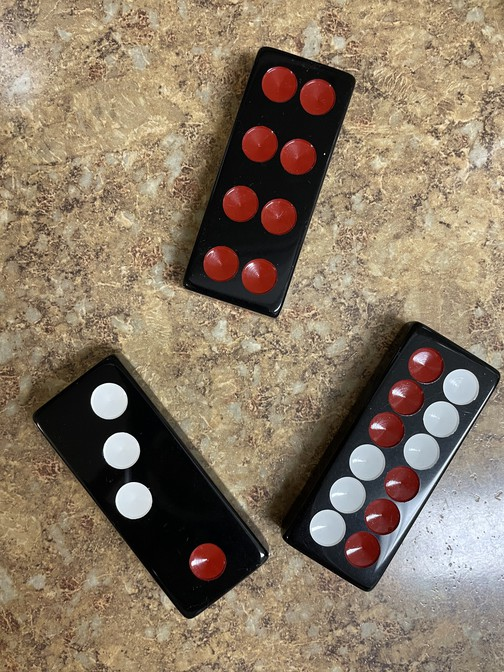goose: (34, 349, 272, 621)
heaven: (282, 321, 501, 592)
man: (185, 46, 356, 320)
